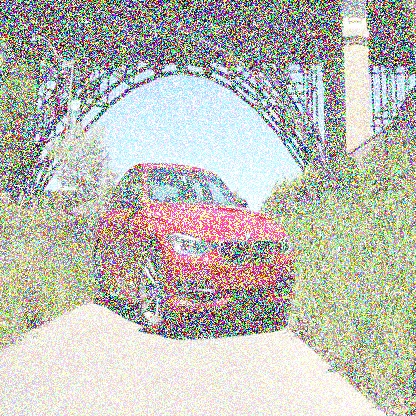Vehicle: (89, 155, 304, 350)
